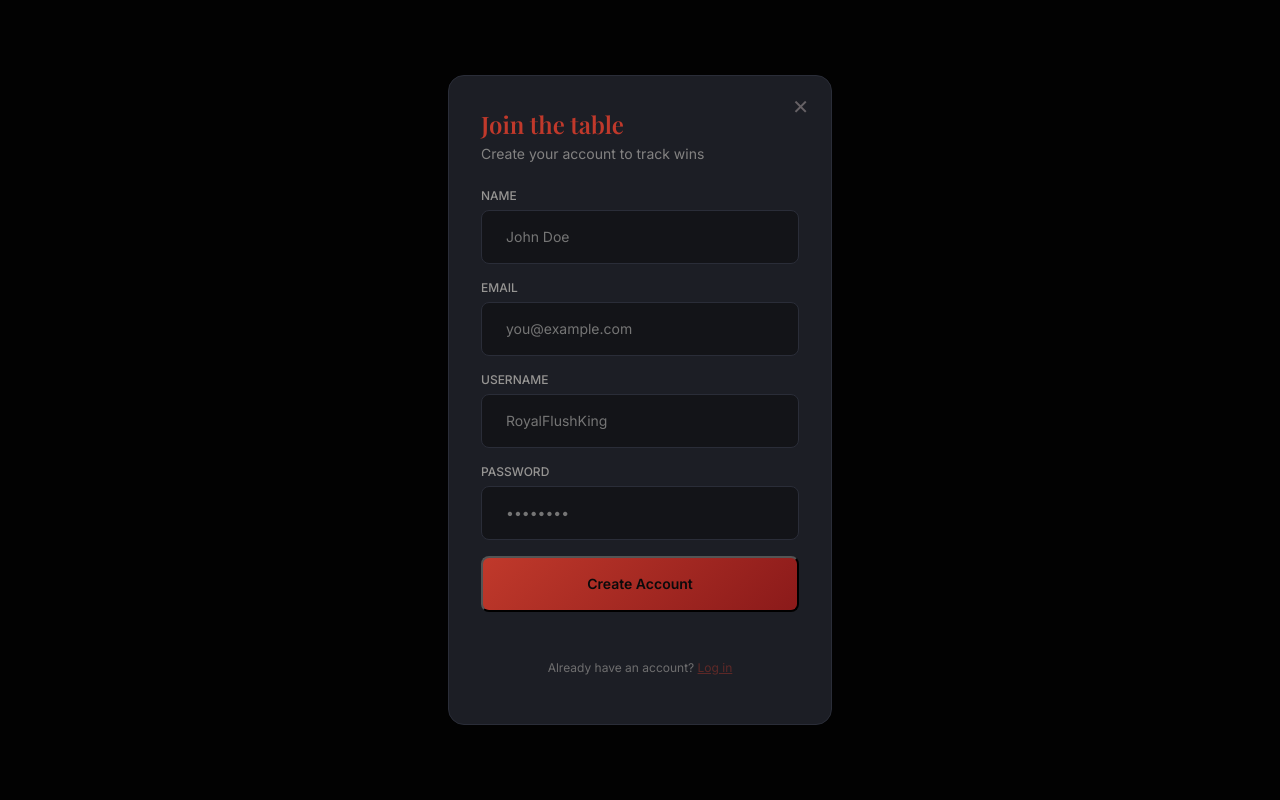
Scenario: SignUpView Component Tests › Displays default error when backend provides no error message
Click the button "Create Account" at x=640, y=584, box [481,556,799,612]
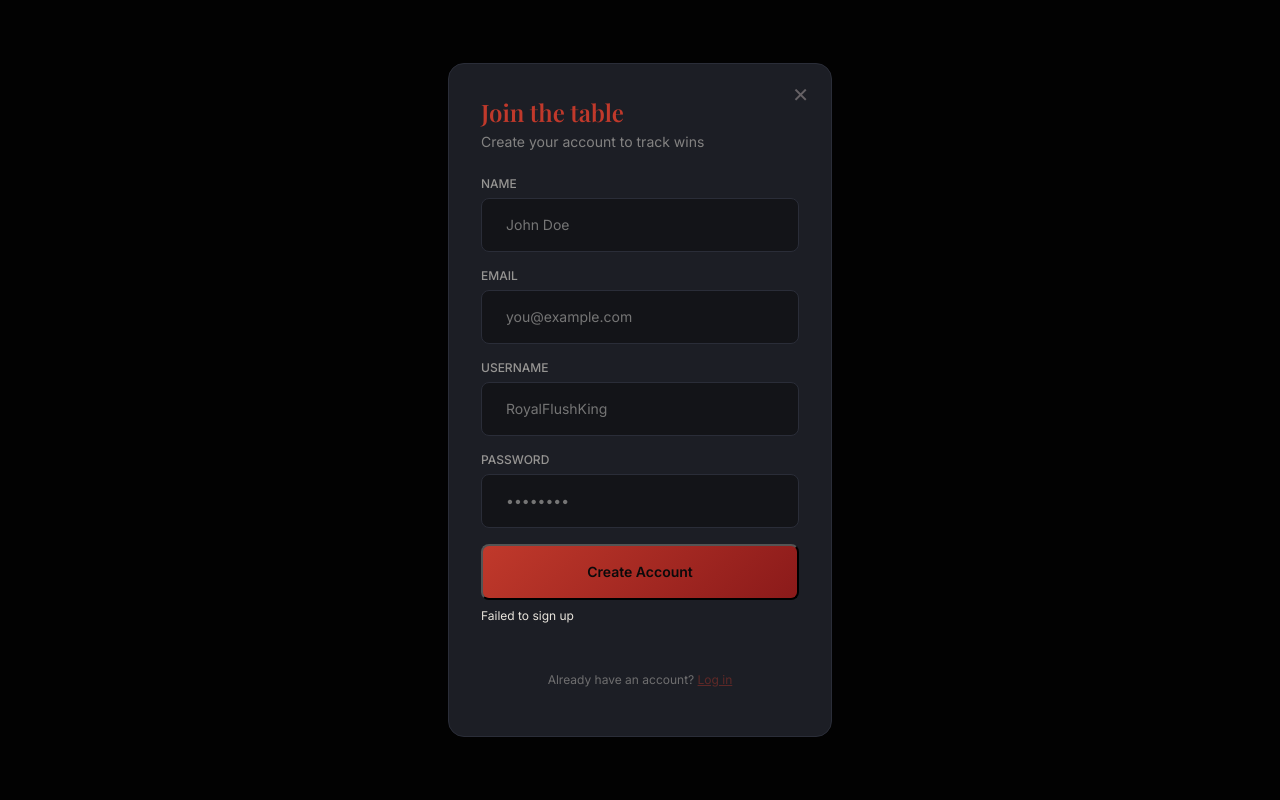
Result: the text "Failed to sign up" is shown at [481,608,574,623]
